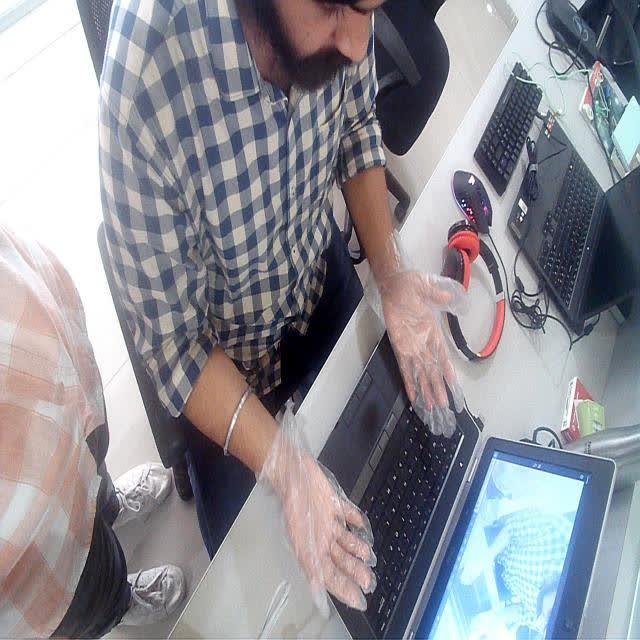with_gloves: (380, 255, 499, 440), (260, 413, 380, 594)
